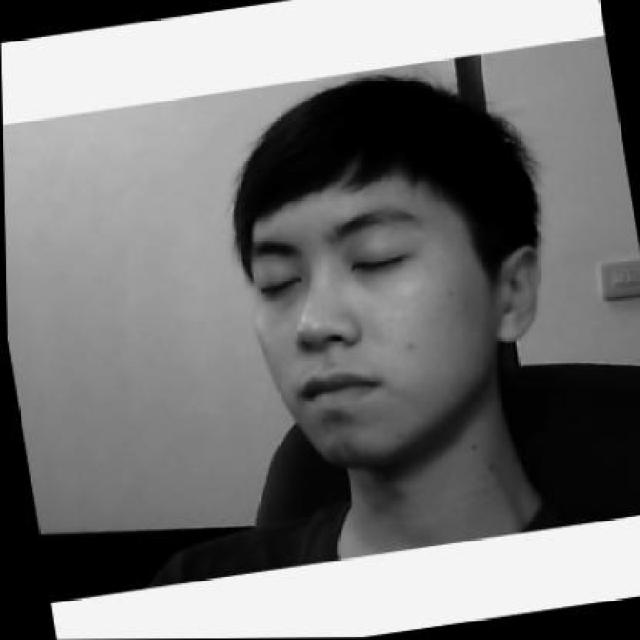inattentif: (209, 52, 562, 473)
